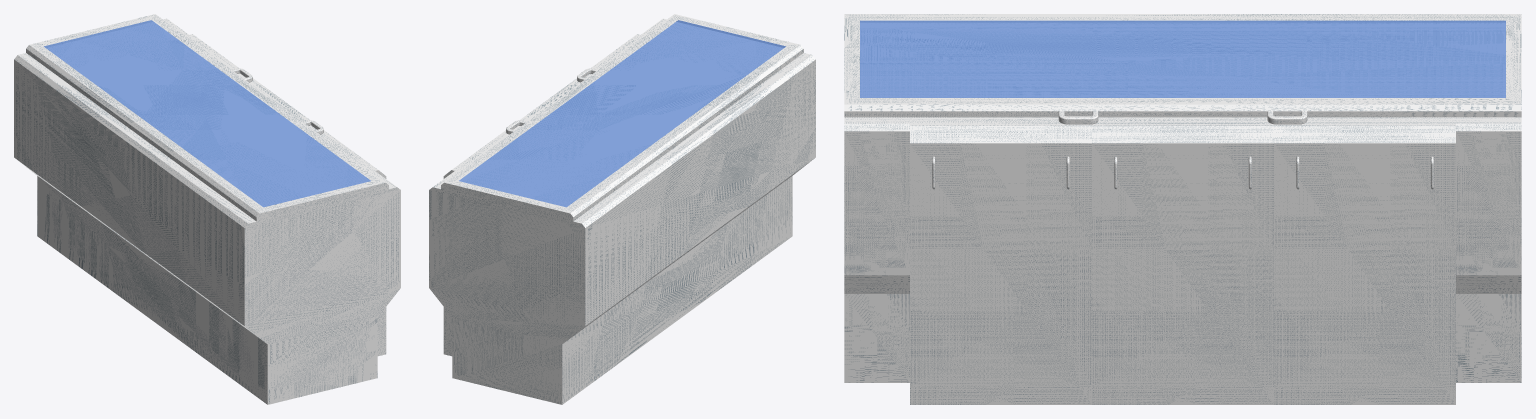
File: smartpodxl_notext_from_skp.fbx
3 views of the same model, side by side, from view 1: azimuth 30°, elevation 25°; view 2: azimuth 150°, elevation 25°; view 3: azimuth 270°, elevation 25° (orthographic). The views are drawn at different scales.
Visible parts, largest first — view 1: Group6; view 2: Group6; view 3: Group6.
Boxes of the visible parts, x1,y1,x2,y2 form: Group6: (14, 14, 400, 404); Group6: (429, 14, 815, 404); Group6: (844, 14, 1521, 404).
Size of the model in its own units: 0.966 by 1.05 by 2.28.
